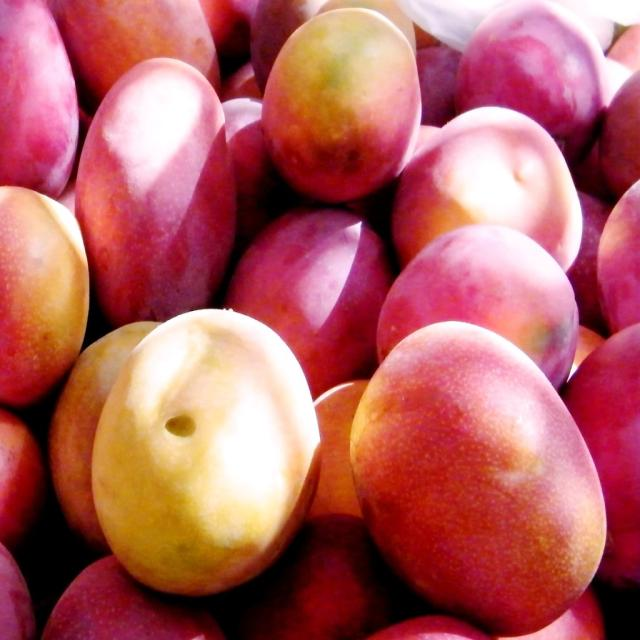Peach: (0, 0, 639, 639), (344, 316, 614, 636)
